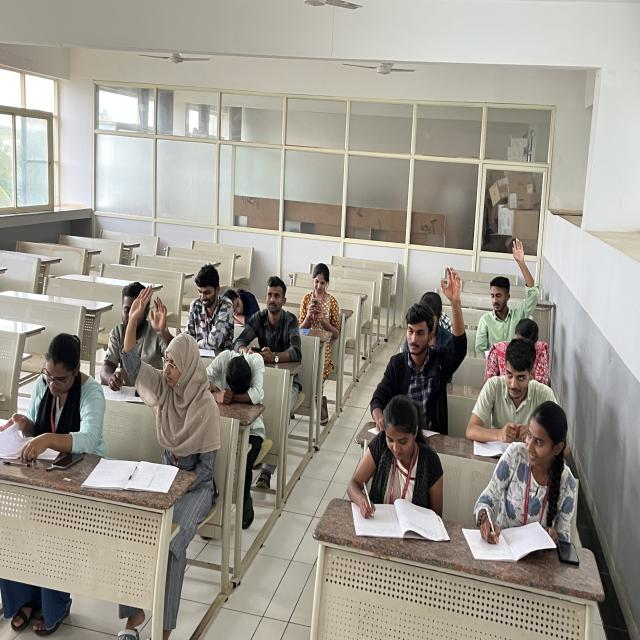Hand Rising: (120, 290, 220, 446), (384, 264, 470, 404), (483, 239, 543, 340)
Reading: (0, 330, 104, 461)
Sleeping: (211, 342, 270, 406)
Using Phone: (245, 279, 305, 368), (294, 260, 346, 326)
Writing: (472, 411, 578, 559), (341, 399, 444, 533)
